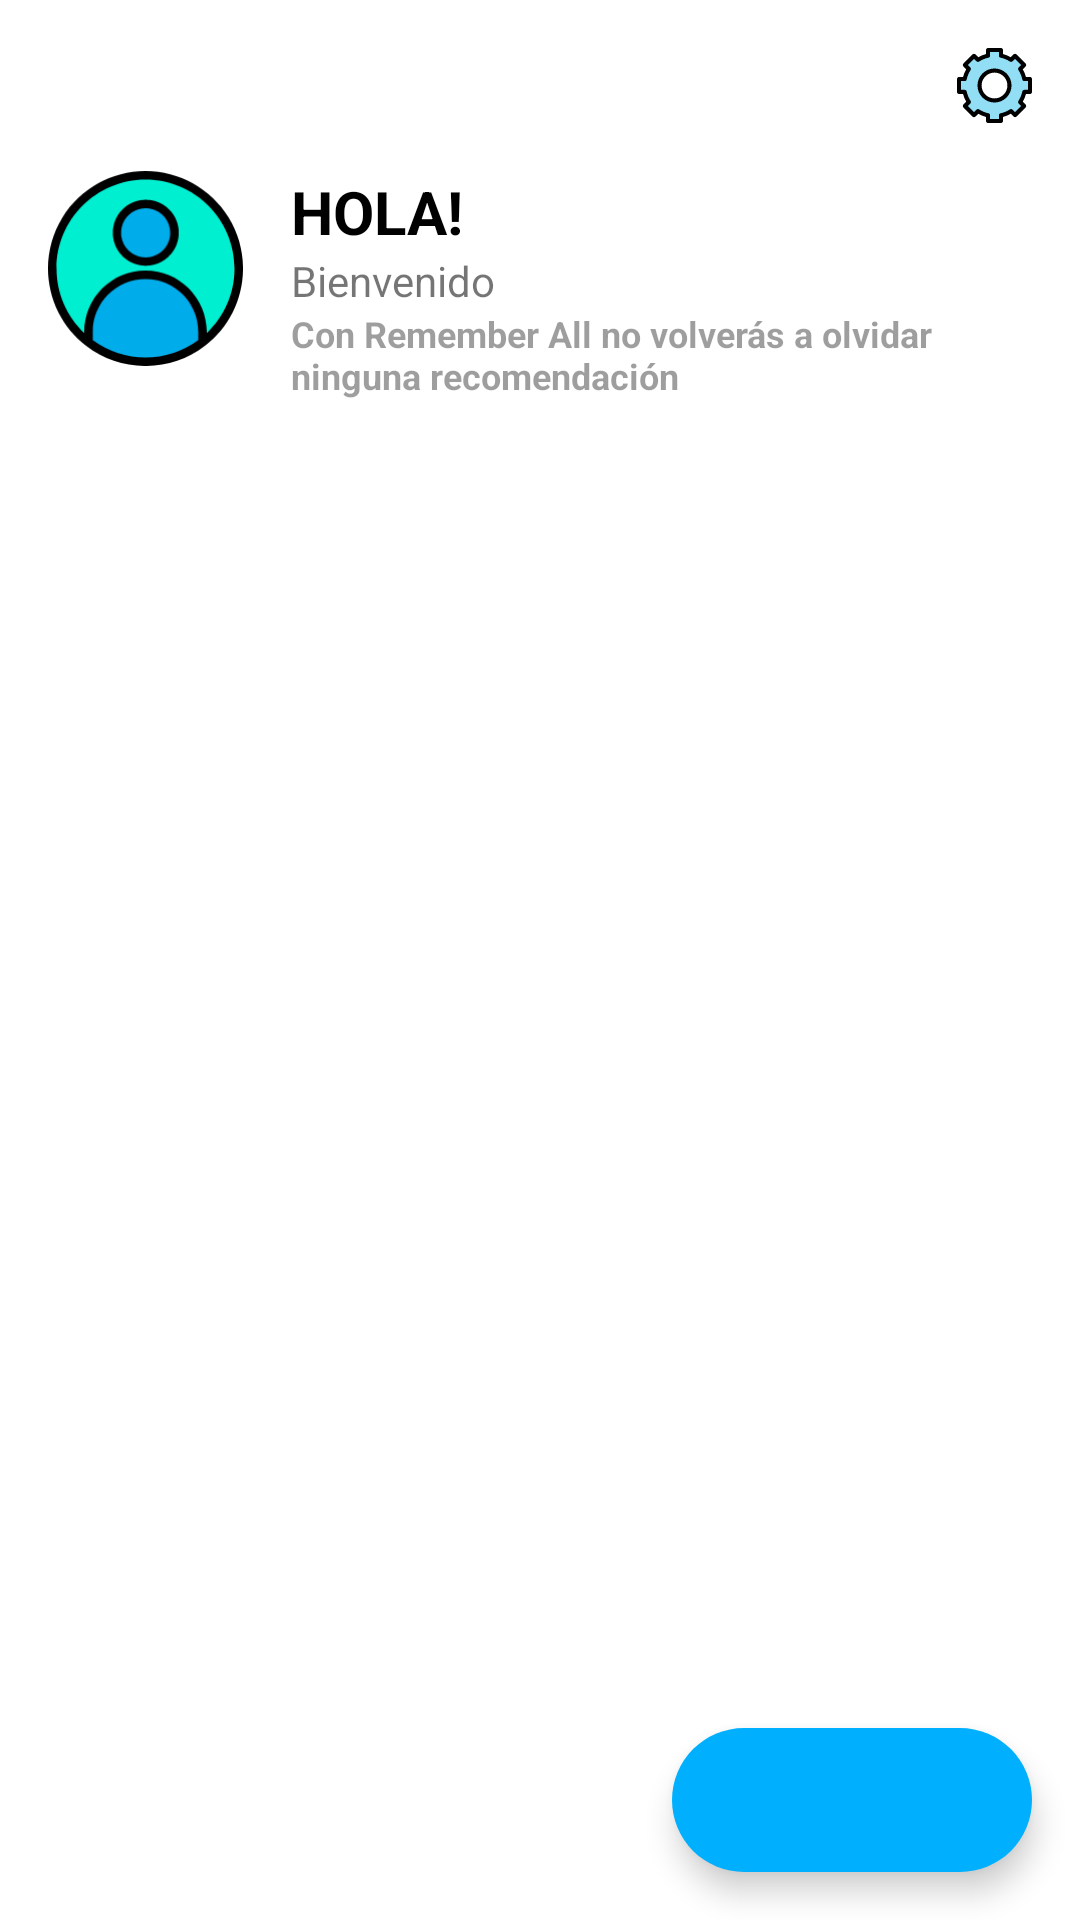

Screen size 1080px×1920px. Icon name, then its center in pixels as point (x, y):
picture profile: point (145, 268)
settings: point (994, 85)
